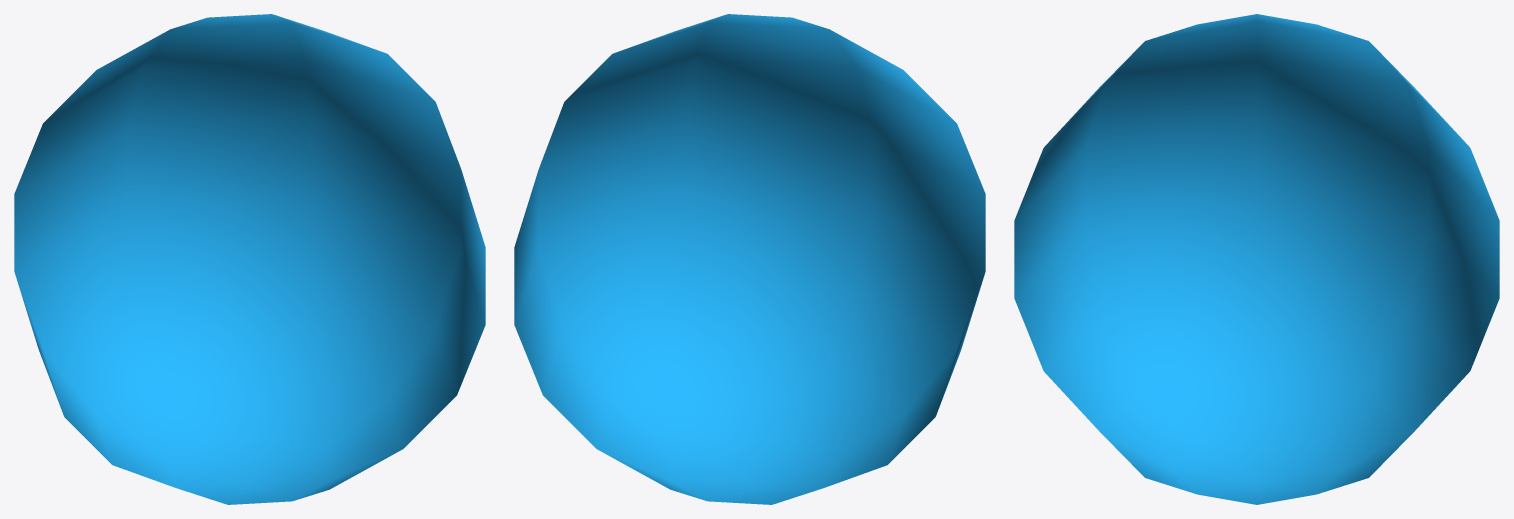
Rendered from aniLicht.gltf.
3 views of the same model, side by side, from view 1: azimuth 30°, elevation 25°; view 2: azimuth 150°, elevation 25°; view 3: azimuth 270°, elevation 25° (orthographic).
Parts seen in each view (by area): view 1: MeshInstance; view 2: MeshInstance; view 3: MeshInstance.
Part boxes in pixels (x1,y1,x2,y2): MeshInstance: (14,14,485,504); MeshInstance: (514,14,985,504); MeshInstance: (1014,14,1499,504).
Size of the model in its own units: 0.0985 by 0.1 by 0.0985.
